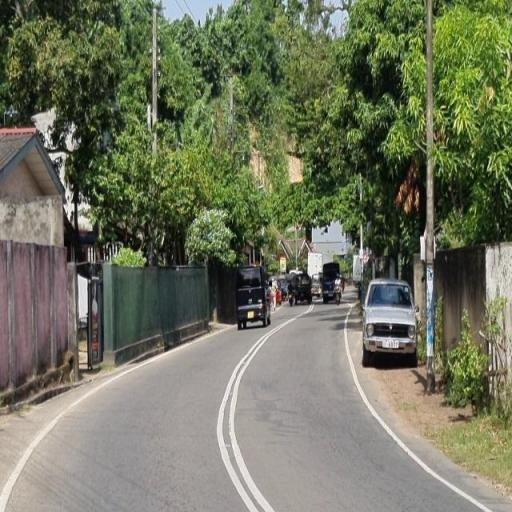double_white_line: (339, 312, 494, 511), (214, 295, 276, 512)
